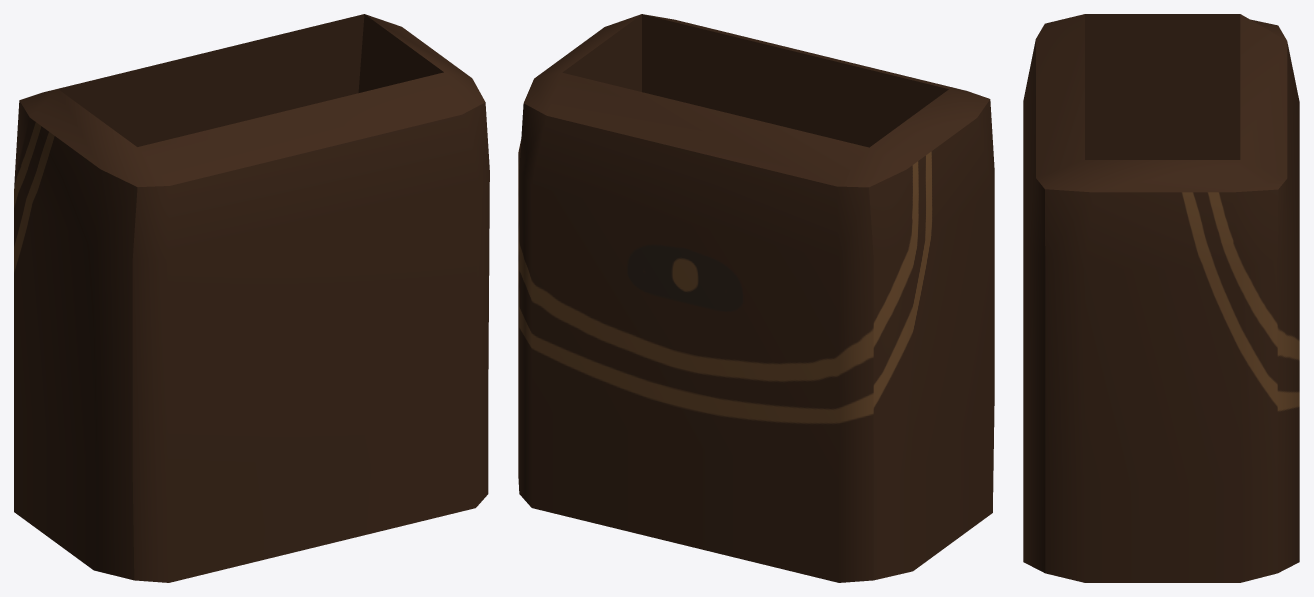
Rendered from beltbag.fbx.
The picture shows the model from 3 angles, left to right: view 1: azimuth 30°, elevation 25°; view 2: azimuth 150°, elevation 25°; view 3: azimuth 270°, elevation 25°; orthographic projection. The views are drawn at different scales.
Visible parts, largest first — view 1: pCube4; view 2: pCube4; view 3: pCube4.
Part boxes in pixels (x1=…): pCube4: x1=14, y1=14, x2=489, y2=582; pCube4: x1=518, y1=14, x2=994, y2=582; pCube4: x1=1023, y1=14, x2=1299, y2=582.
Size of the model in its own units: 0.541 by 0.541 by 0.337.
1 material, 1 textured.
